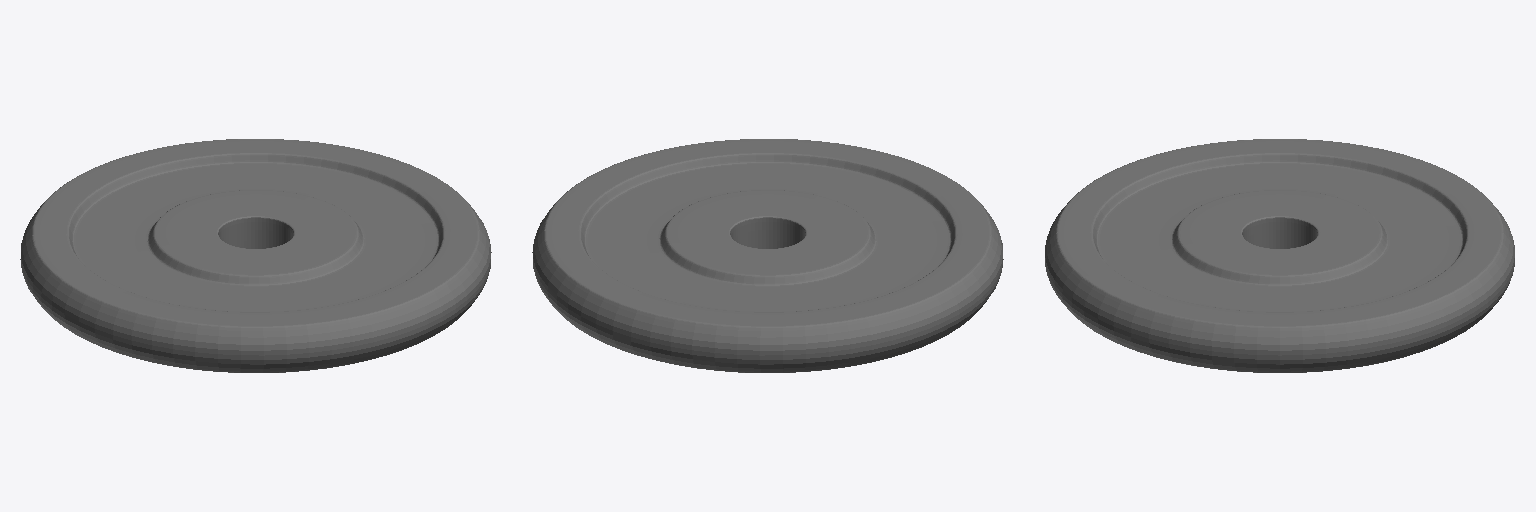
The robot description file, URDF, robot "weight_plate_z-0-4":
<?xml version="1.0"?>
<robot name="weight_plate_z-0-4">
  <link name="base">
    <visual>
      <geometry>
        <mesh filename="weight_plate_z-0-4.obj" scale="1 1 1"/>
      </geometry>
      <material name="gray">
        <color rgba="0.5 0.5 0.5 1.0"/>
      </material>
    </visual>
    <collision>
      <geometry>
        <mesh filename="weight_plate_z-0-4.obj" scale="1 1 1"/>
      </geometry>
    </collision>
    <inertial>
      <mass value="1.000"/>
      <inertia
          ixx="0.013503" ixy="0.000000" ixz="0.000000"
          iyy="0.013503" iyz="0.000000"
          izz="0.026685"/>
      <origin xyz="0.000000 -0.000001 -0.021940" rpy="0 0 0"/>
    </inertial>
  </link>
</robot>

--- Render facts (derived) ---
3 views of the same robot in one strip: view 1: azimuth 30°, elevation 25°; view 2: azimuth 150°, elevation 25°; view 3: azimuth 270°, elevation 25° (orthographic).
Robot: weight_plate_z-0-4 — 1 links, 0 joints (none); root link base; default pose: all joints at 0.
Visible links, largest first — view 1: base; view 2: base; view 3: base.
Boxes of the visible links, left/top/right/bottom form: base: left=20, top=139, right=491, bottom=372; base: left=532, top=139, right=1003, bottom=372; base: left=1045, top=139, right=1514, bottom=372.
Size in the robot's own frame: 0.4001 by 0.4001 by 0.0439 metres.
Meshes: 1 distinct files referenced, 1 mesh visuals loaded (1 OBJ).
